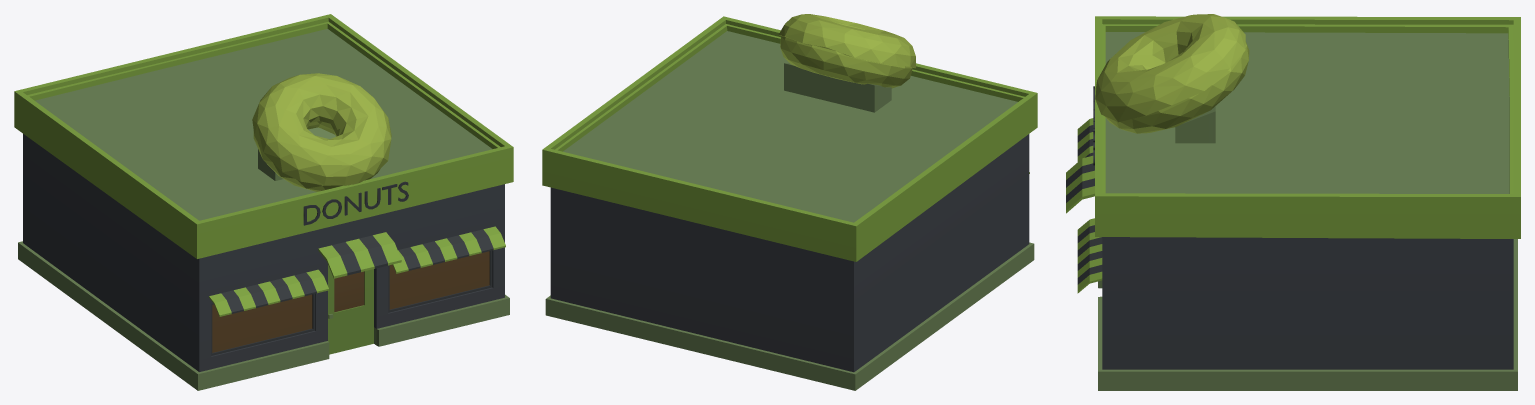
The model's file is Donuts_01.fbx.
3 renders of one model, left to right at view 1: azimuth 30°, elevation 25°; view 2: azimuth 150°, elevation 25°; view 3: azimuth 270°, elevation 25°, orthographic. The views are drawn at different scales.
Visible parts, largest first — view 1: Donuts_01; view 2: Donuts_01; view 3: Donuts_01.
Boxes of the visible parts, x1,y1,x2,y2 form: Donuts_01: [14, 14, 513, 390]; Donuts_01: [542, 14, 1037, 390]; Donuts_01: [1066, 14, 1520, 390].
Size of the model in its own units: 7.06 by 5.06 by 7.54.
